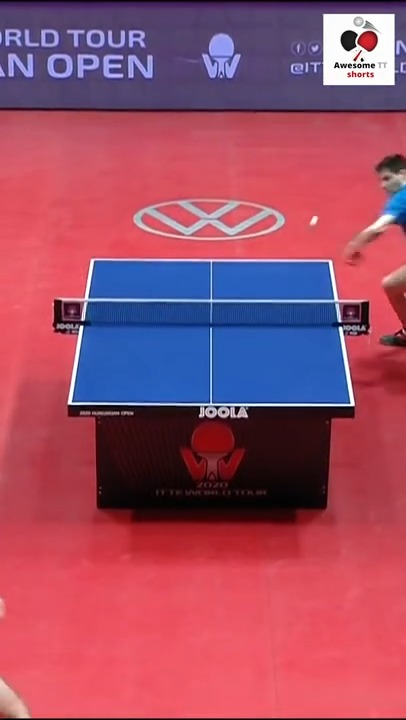Ball: (311, 214, 319, 228)
